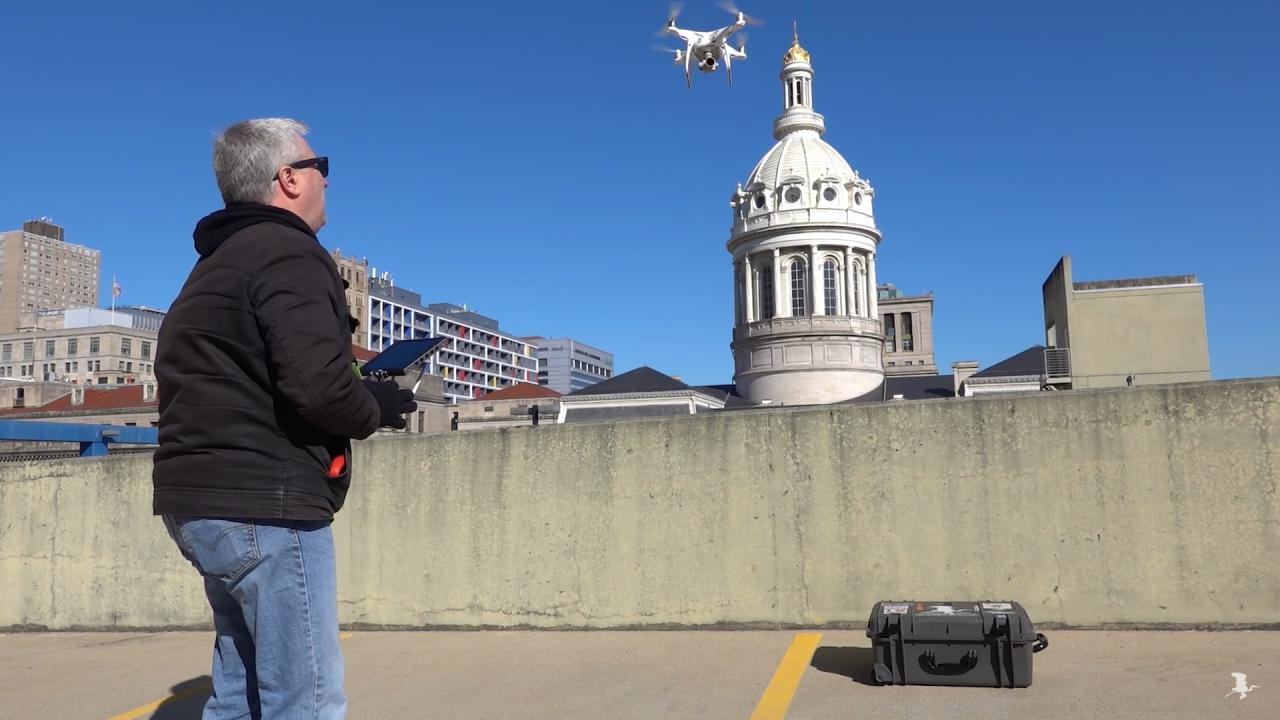Drone: (645, 3, 775, 99)
